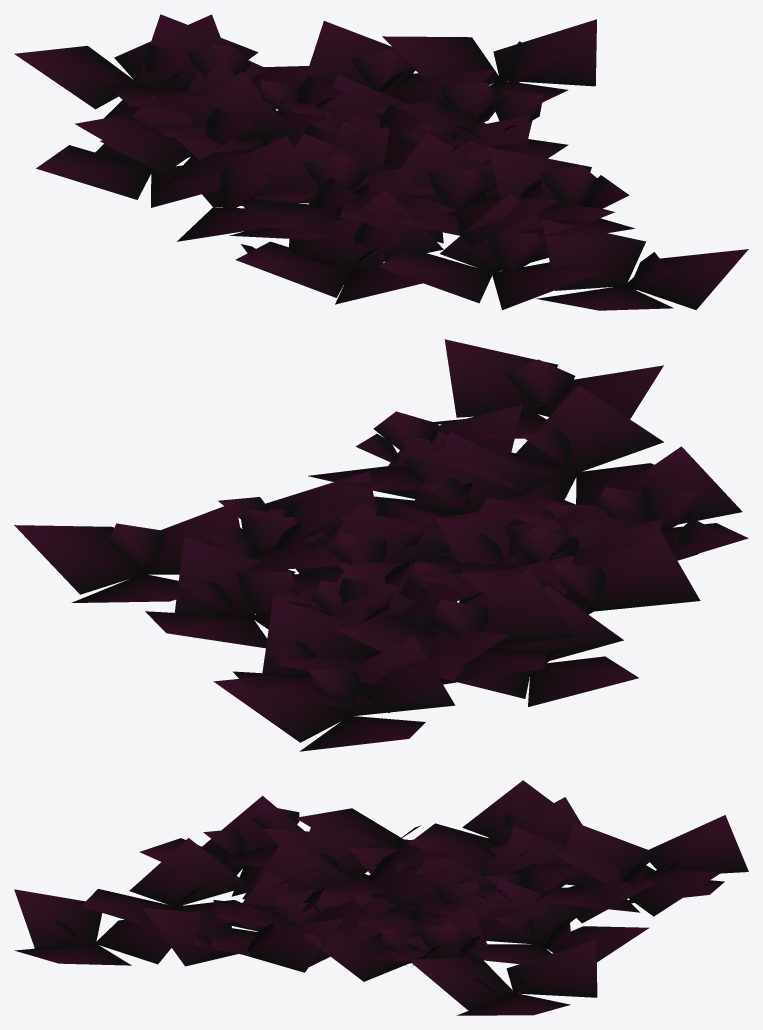
Rendered from TSI_Plant_22A.fbx.
3 views of the same model, one above another, from view 1: azimuth 30°, elevation 25°; view 2: azimuth 150°, elevation 25°; view 3: azimuth 270°, elevation 25° (orthographic). The views are drawn at different scales.
Parts seen in each view (by area): view 1: TSI_Plant_22A_LOD0; view 2: TSI_Plant_22A_LOD0; view 3: TSI_Plant_22A_LOD0.
Boxes of the visible parts, bbox=[...] form: TSI_Plant_22A_LOD0: bbox=[14, 14, 748, 310]; TSI_Plant_22A_LOD0: bbox=[14, 339, 748, 751]; TSI_Plant_22A_LOD0: bbox=[14, 780, 748, 1015].
Bounding box in the file's own units: 345 × 22.31 × 446.
